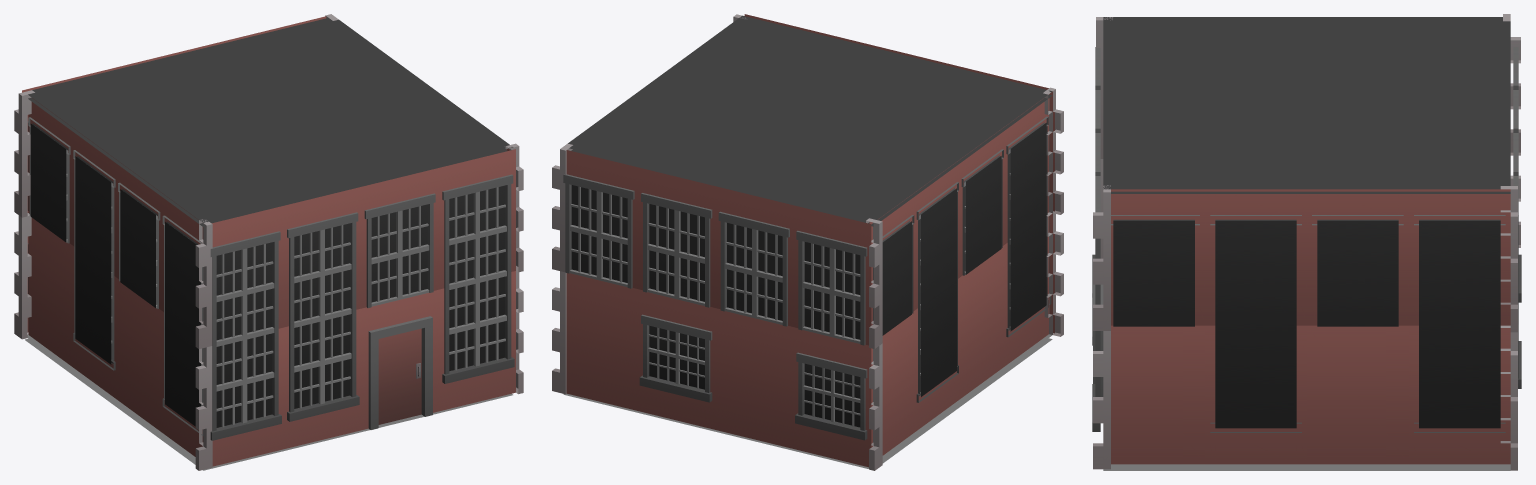
The model's file is control-room.glb.
3 views of the same model, side by side, from view 1: azimuth 30°, elevation 25°; view 2: azimuth 150°, elevation 25°; view 3: azimuth 270°, elevation 25° (orthographic). The views are drawn at different scales.
Visible parts, largest first — view 1: TreyIndustrialControlRoomVisual; view 2: TreyIndustrialControlRoomVisual; view 3: TreyIndustrialControlRoomVisual.
Boxes of the visible parts, box(x1,y1,x2,y2) form: TreyIndustrialControlRoomVisual: box(14, 14, 523, 470); TreyIndustrialControlRoomVisual: box(552, 14, 1063, 470); TreyIndustrialControlRoomVisual: box(1092, 14, 1521, 470).
Size of the model in its own units: 8.4 by 6.1 by 8.43.
1 material, 1 textured.
